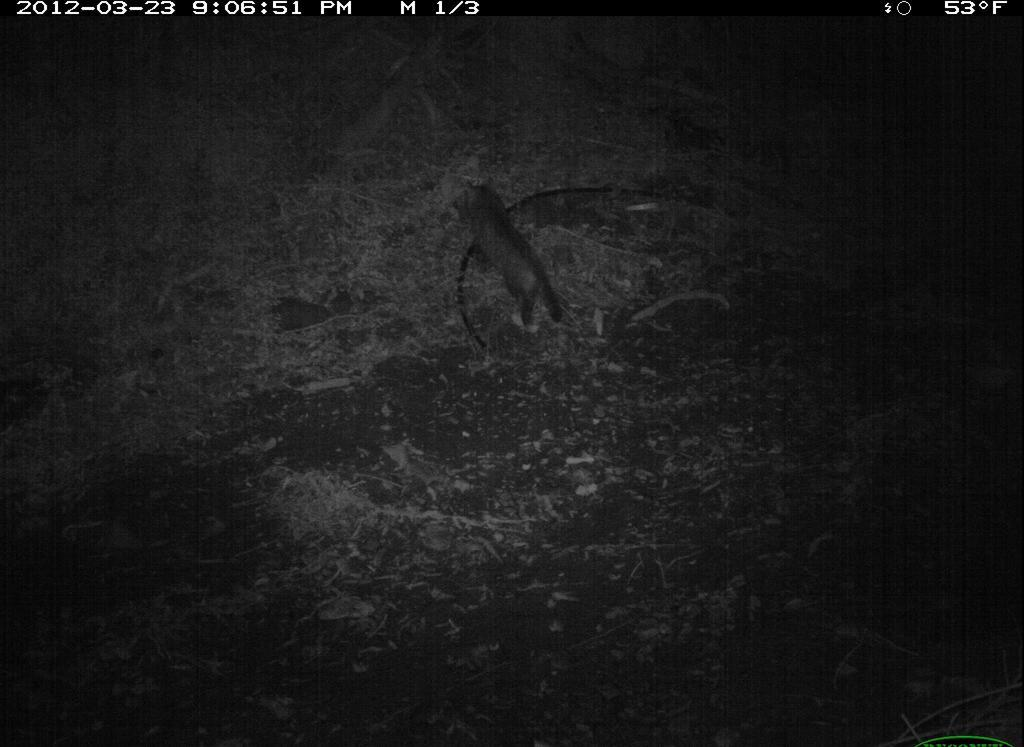cat: (451, 177, 570, 340)
